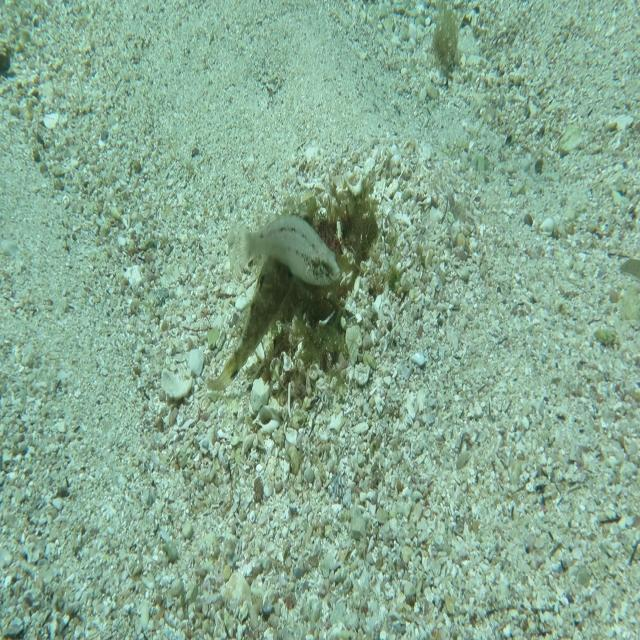FAN: (205, 192, 317, 393)
core_nest: (313, 197, 372, 255)
female: (226, 212, 341, 287)
nest: (247, 162, 392, 402)
